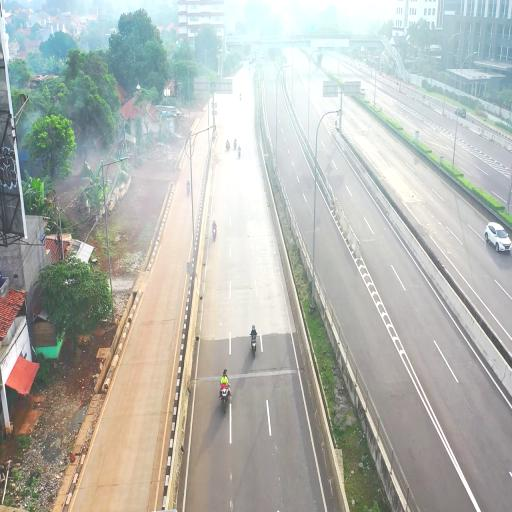vehicle: (484, 222, 512, 254)
